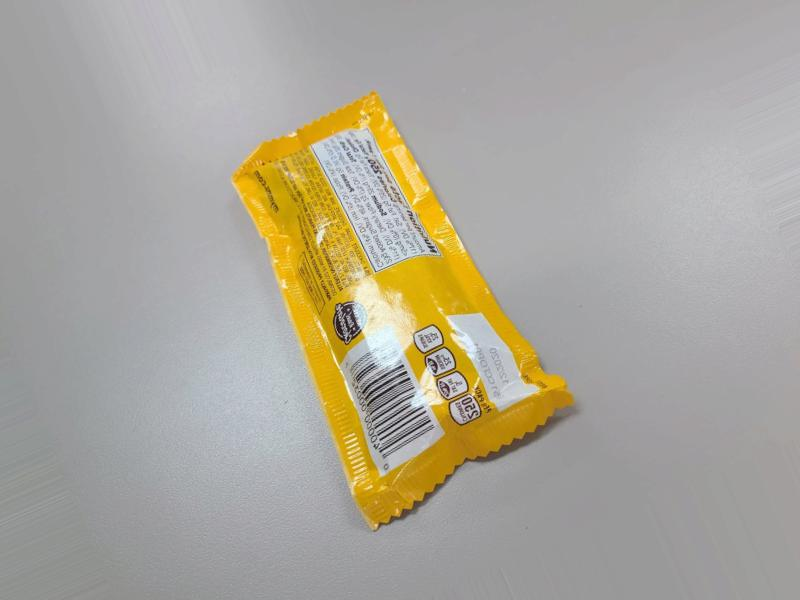m&m: (234, 149, 616, 547)
